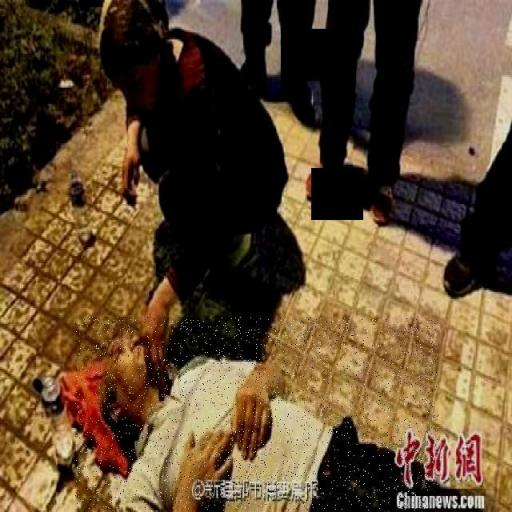Fall: (76, 317, 439, 510)
